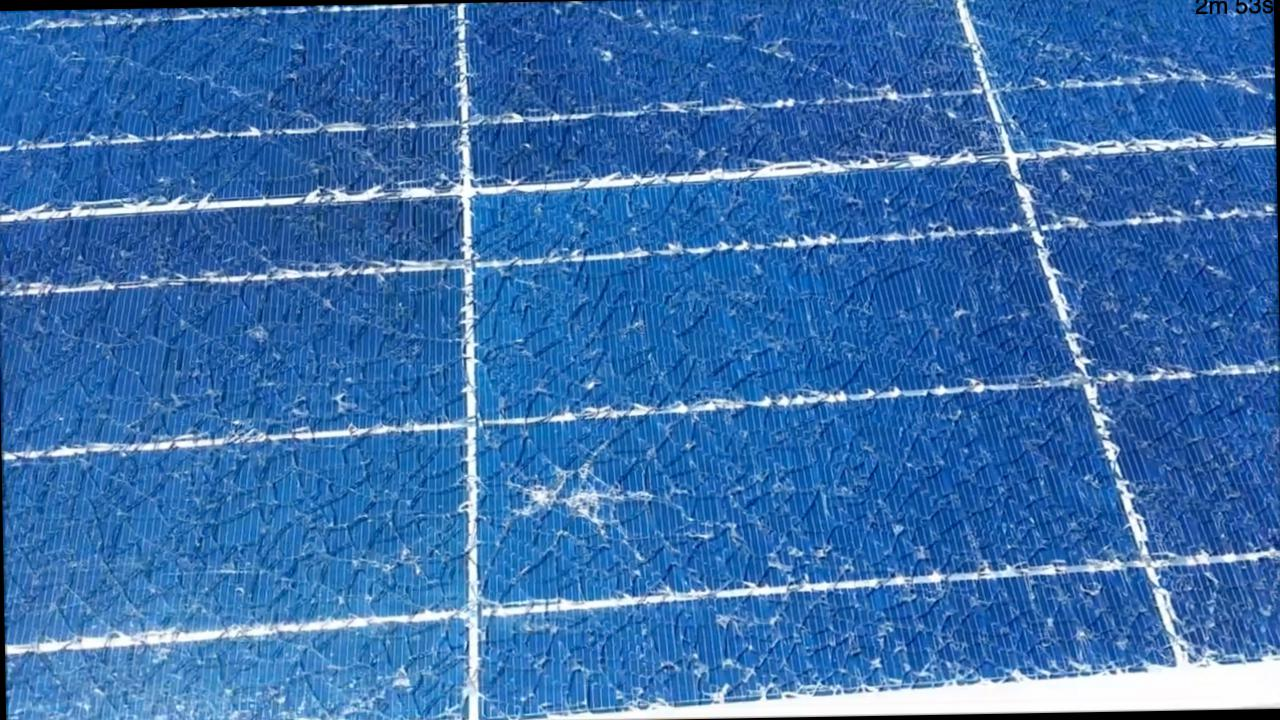Crack: (490, 417, 680, 592)
